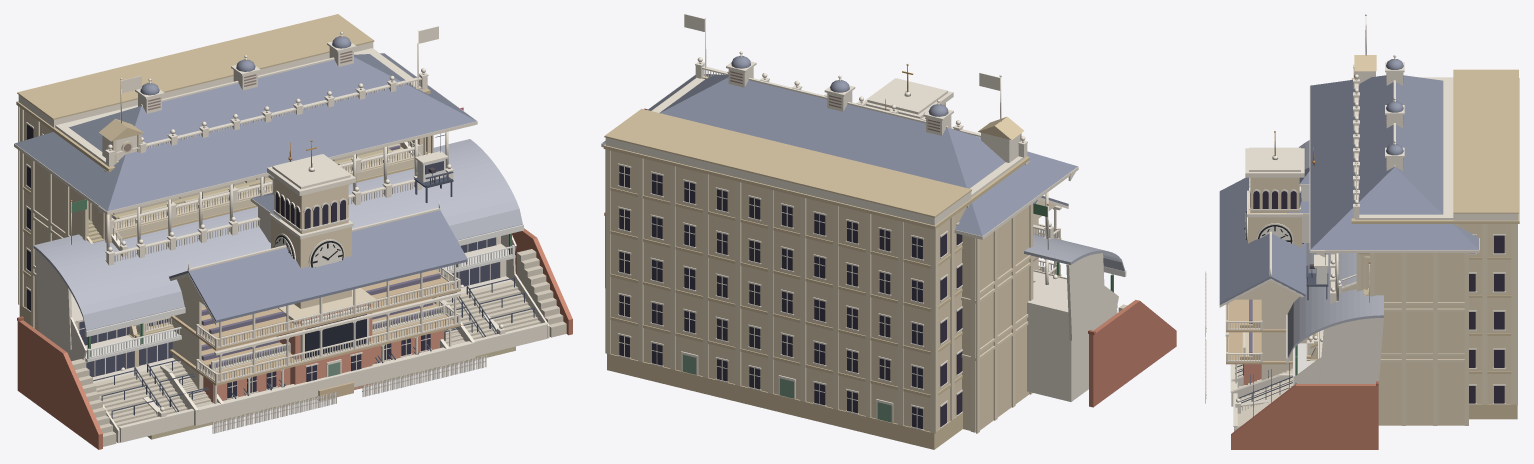
The model's file is gen-hill-r-big_stands.glb.
3 views of the same model, side by side, from view 1: azimuth 30°, elevation 25°; view 2: azimuth 150°, elevation 25°; view 3: azimuth 270°, elevation 25° (orthographic). The views are drawn at different scales.
Parts seen in each view (by area): view 1: gen_cupola_stand, park_tiered_stand, old_pavilion_wing, park_balcony_stand, york_clock_tower, gen_terrace_32, gen_terrace_26; view 2: park_balcony_stand, park_tiered_stand, gen_cupola_stand, york_clock_tower, old_pavilion_wing; view 3: park_tiered_stand, park_balcony_stand, gen_cupola_stand, old_pavilion_wing, york_clock_tower, gen_terrace_32.
Boxes of the visible parts, x1,y1,x2,y2 form: gen_cupola_stand: (17,107,572,449); park_tiered_stand: (14,31,515,439); old_pavilion_wing: (169,201,486,433); park_balcony_stand: (16,14,505,436); york_clock_tower: (203,140,445,403); gen_terrace_32: (160,300,475,425); gen_terrace_26: (217,339,449,419); park_balcony_stand: (603,14,1035,449); park_tiered_stand: (601,51,1078,433); gen_cupola_stand: (604,98,1176,407); york_clock_tower: (864,64,1045,272); old_pavilion_wing: (1033,196,1068,276); park_tiered_stand: (1309,55,1479,425); park_balcony_stand: (1235,14,1519,419); gen_cupola_stand: (1231,140,1383,449); old_pavilion_wing: (1205,177,1315,403); york_clock_tower: (1242,131,1304,384); gen_terrace_32: (1230,364,1292,406).
Bounding box in the file's own units: 55.56 × 33.35 × 34.88.
